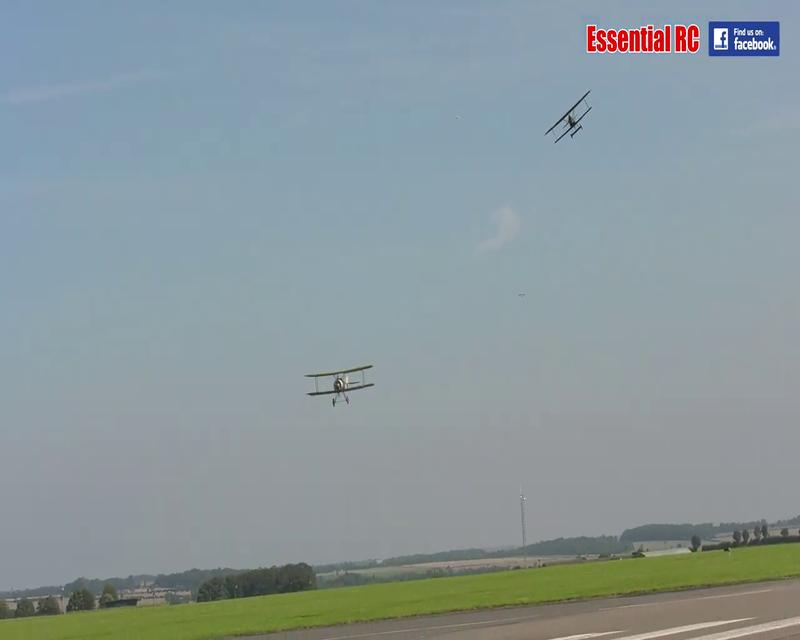UAV: (585, 22, 700, 53), (302, 363, 376, 408), (544, 91, 594, 145)
